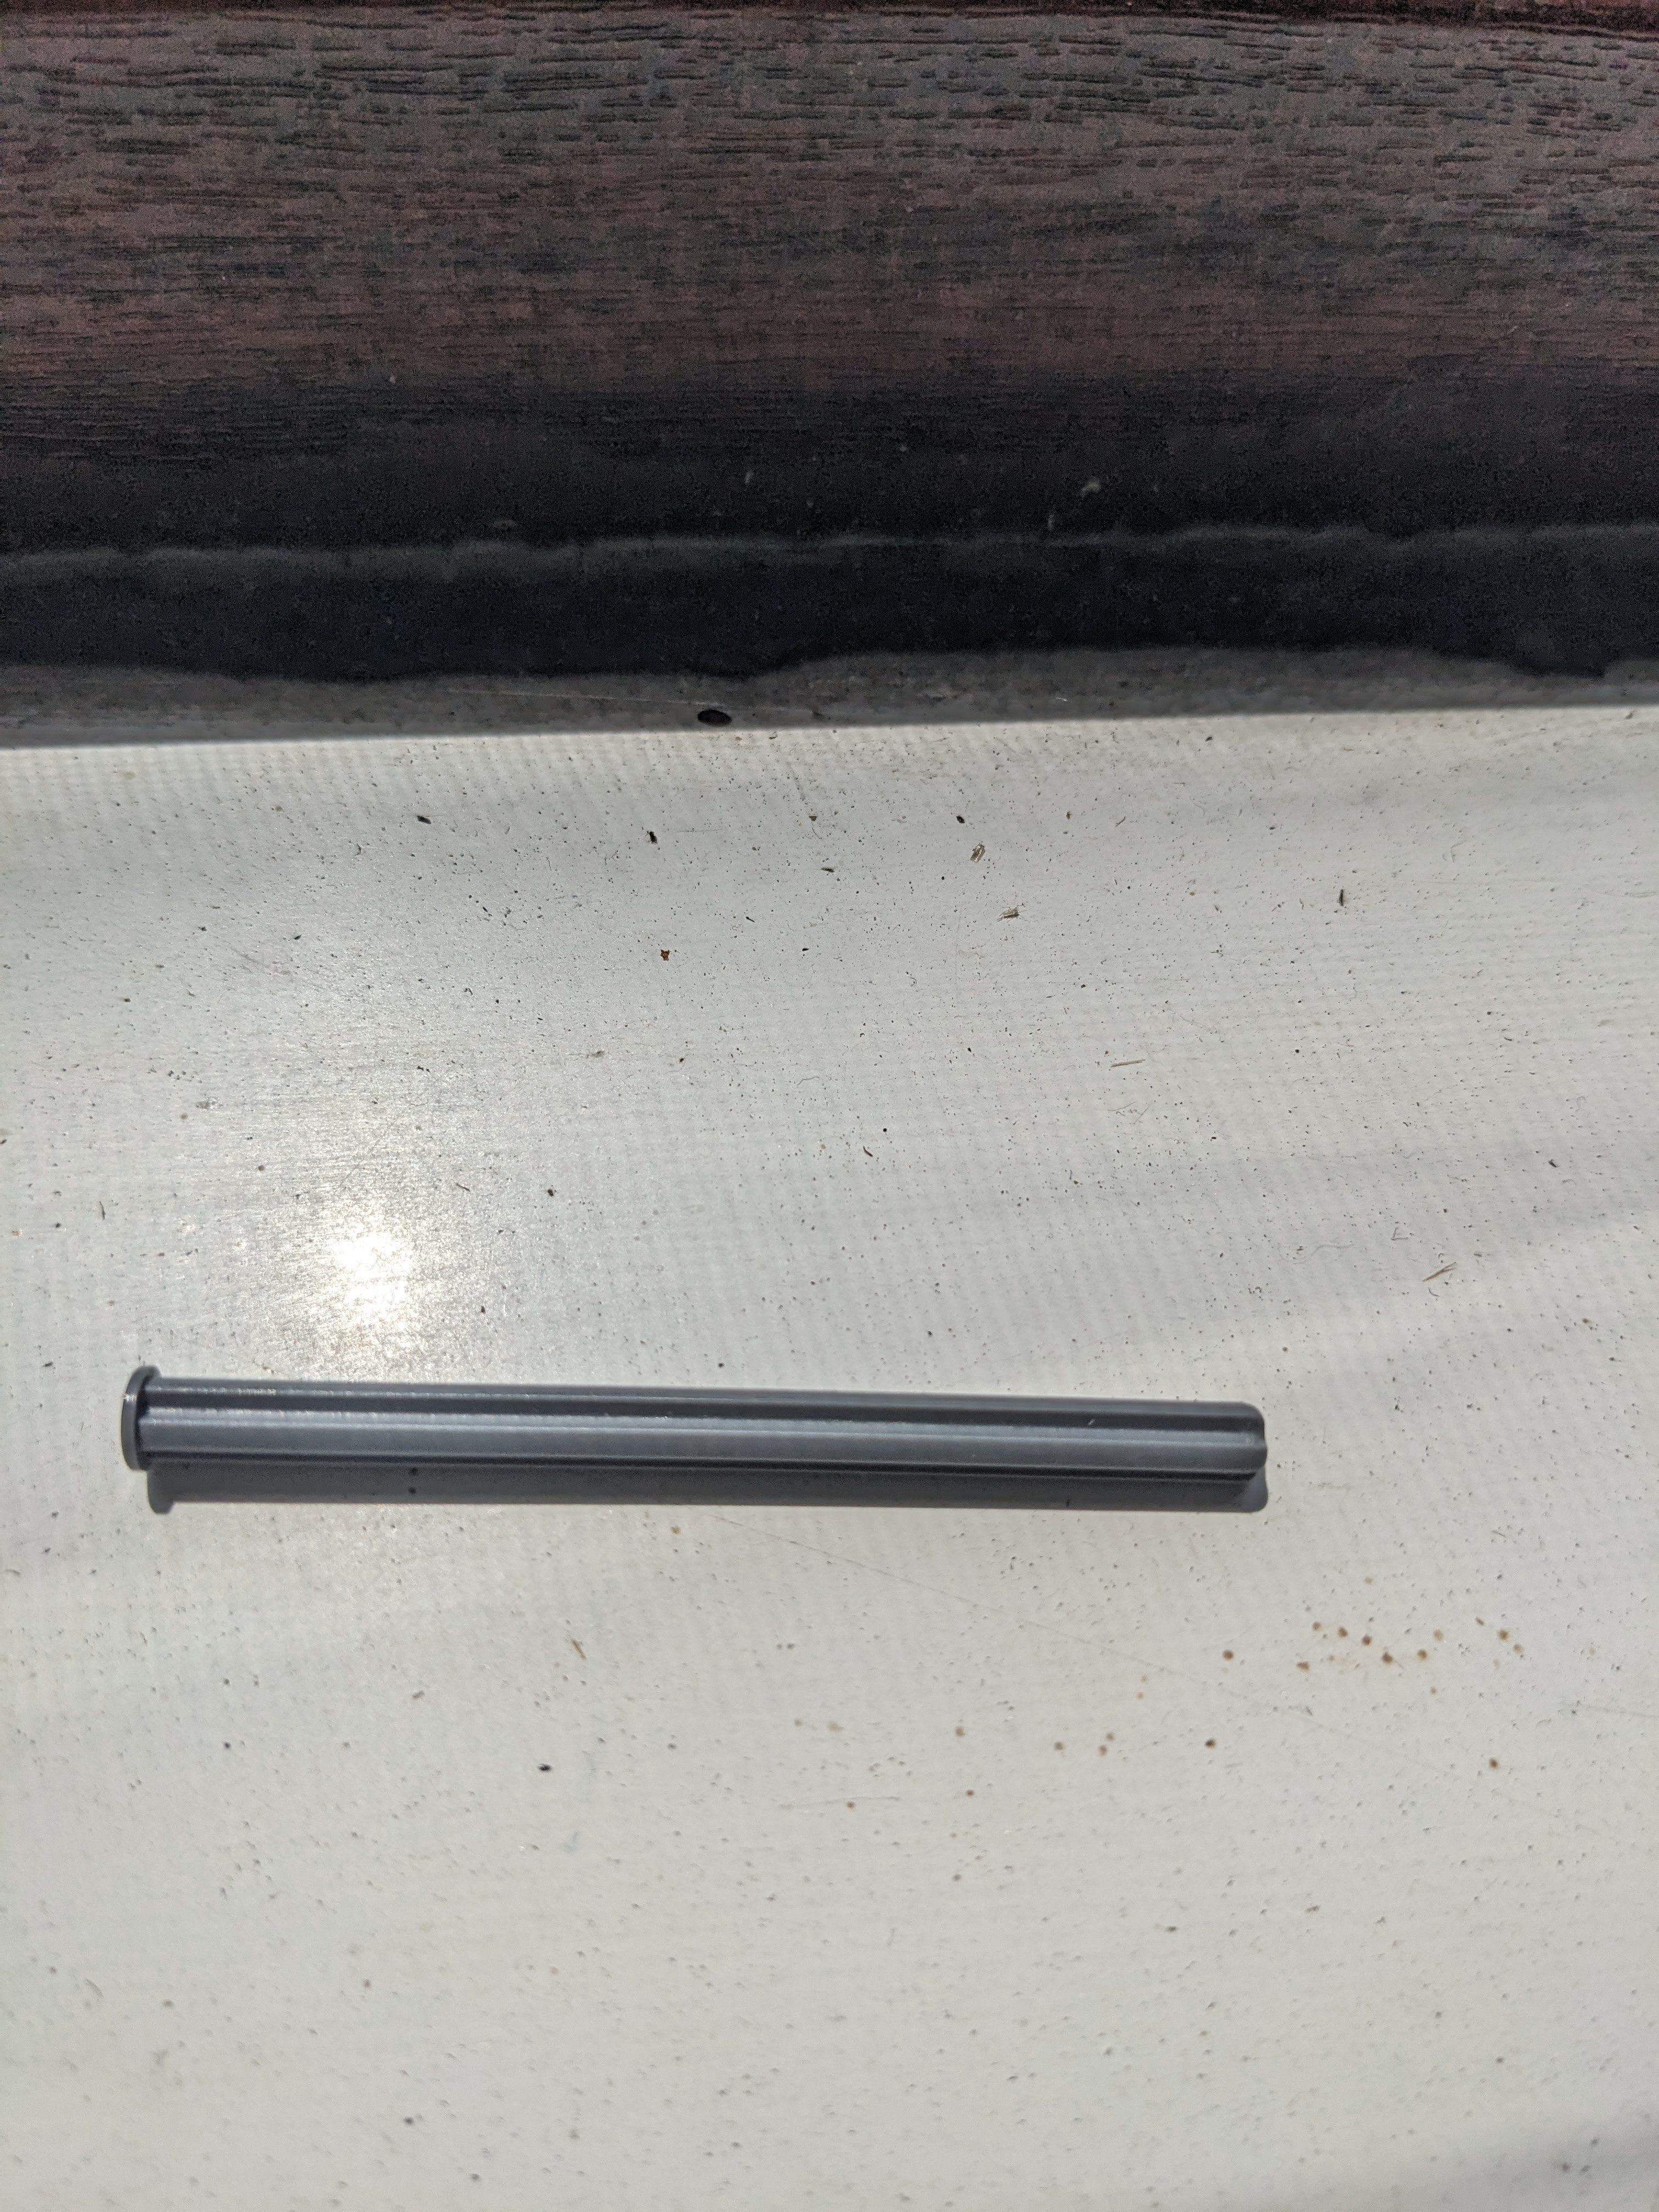Grau_lang: (103, 1325, 1284, 1538)
